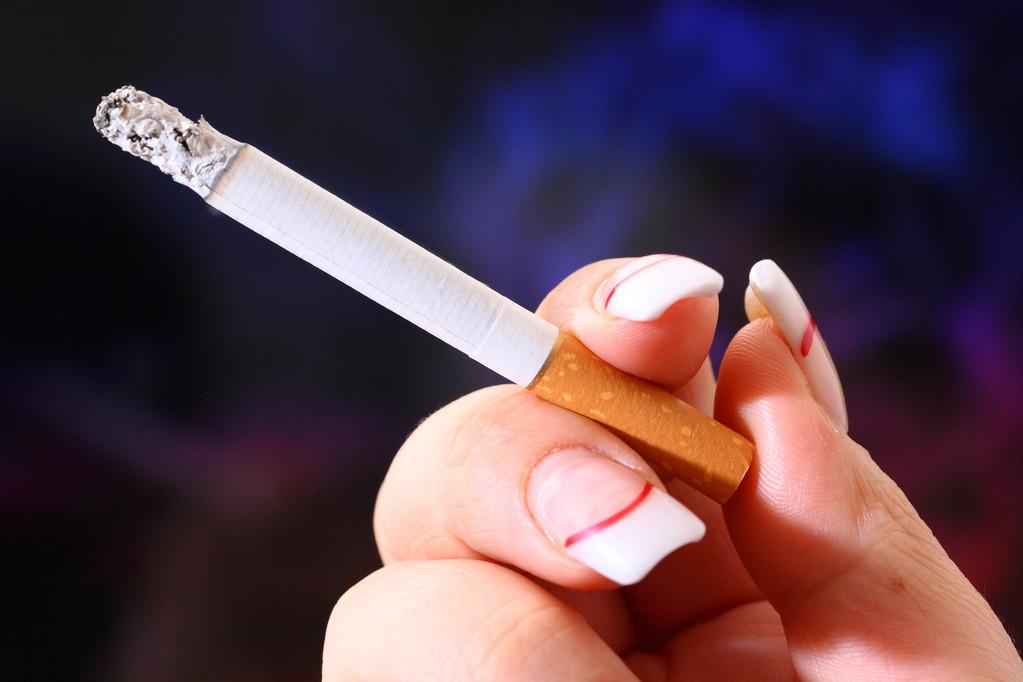smoke: (89, 83, 760, 506)
